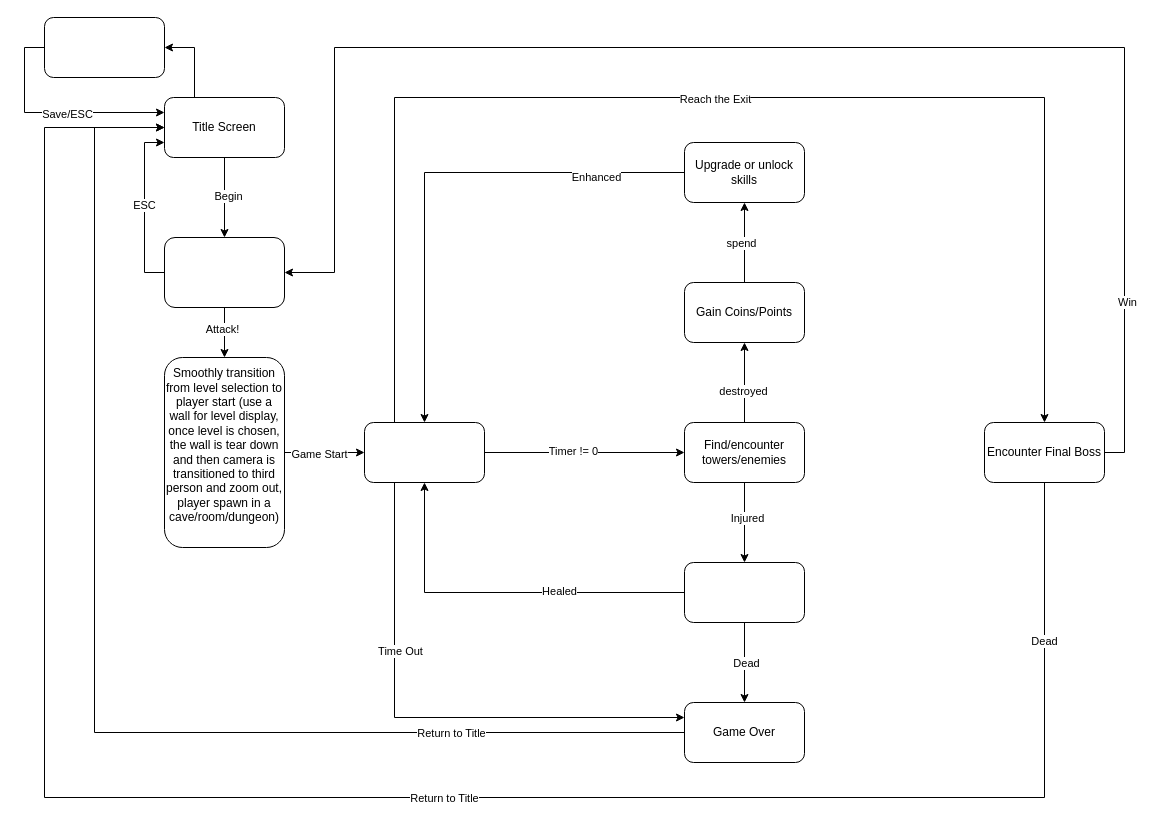
Some shapes in this 1154 by 823 pixel diagram are drawn without their labels. The centre of each missing label's shape, as x and y in pixels:
Explore the Map: [424,452]
Level Selection (unlock new level by completing current level): [224,272]
Settings (Graphics, Language, Difficulties): [104,47]
Use Healing potions / collect health packs: [744,592]
